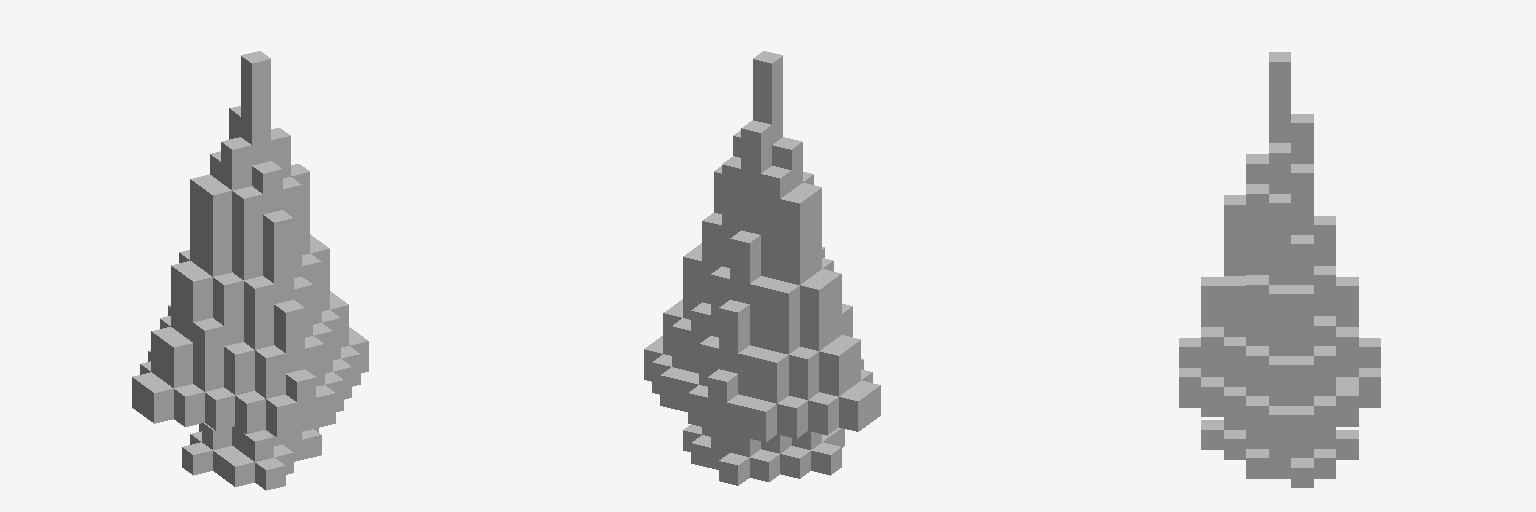
Rendered from Tree.obj.
The picture shows the model from 3 angles: view 1: azimuth 30°, elevation 25°; view 2: azimuth 150°, elevation 25°; view 3: azimuth 270°, elevation 25°; orthographic projection.
Visible parts, largest first — view 1: object 1; view 2: object 1; view 3: object 1.
Part boxes in pixels (x1,y1,x2,y2): object 1: (132, 51, 368, 490); object 1: (644, 51, 880, 485); object 1: (1179, 52, 1380, 487).
Bounding box in the file's own units: 2.2 × 3.9 × 1.8.